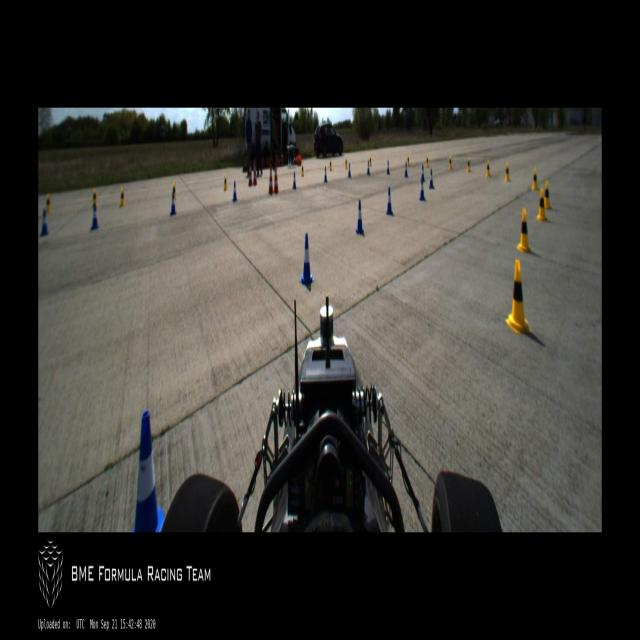blue_cone: (131, 411, 164, 532), (299, 233, 315, 285), (356, 200, 364, 234), (40, 209, 49, 236), (91, 203, 99, 230), (386, 186, 393, 215), (419, 177, 426, 201), (170, 191, 176, 215), (232, 180, 238, 202), (429, 168, 434, 188), (420, 164, 425, 182), (366, 160, 371, 175), (292, 171, 296, 189), (404, 161, 408, 177), (386, 159, 390, 174), (348, 162, 351, 178), (324, 166, 327, 182)
large_orange_cone: (268, 163, 274, 194), (273, 163, 279, 192), (248, 161, 253, 187), (253, 161, 257, 185)
yellow_cone: (506, 260, 532, 334), (517, 210, 530, 252), (536, 188, 547, 222), (544, 180, 552, 209), (91, 188, 98, 208), (532, 168, 538, 189), (45, 193, 51, 213), (505, 162, 510, 182), (120, 188, 125, 206), (172, 181, 176, 201), (466, 157, 471, 172), (486, 159, 490, 177), (224, 174, 228, 191), (448, 156, 452, 170), (301, 163, 304, 177), (329, 158, 332, 171), (369, 156, 372, 167), (345, 158, 348, 169), (426, 155, 428, 168), (407, 155, 409, 168)
